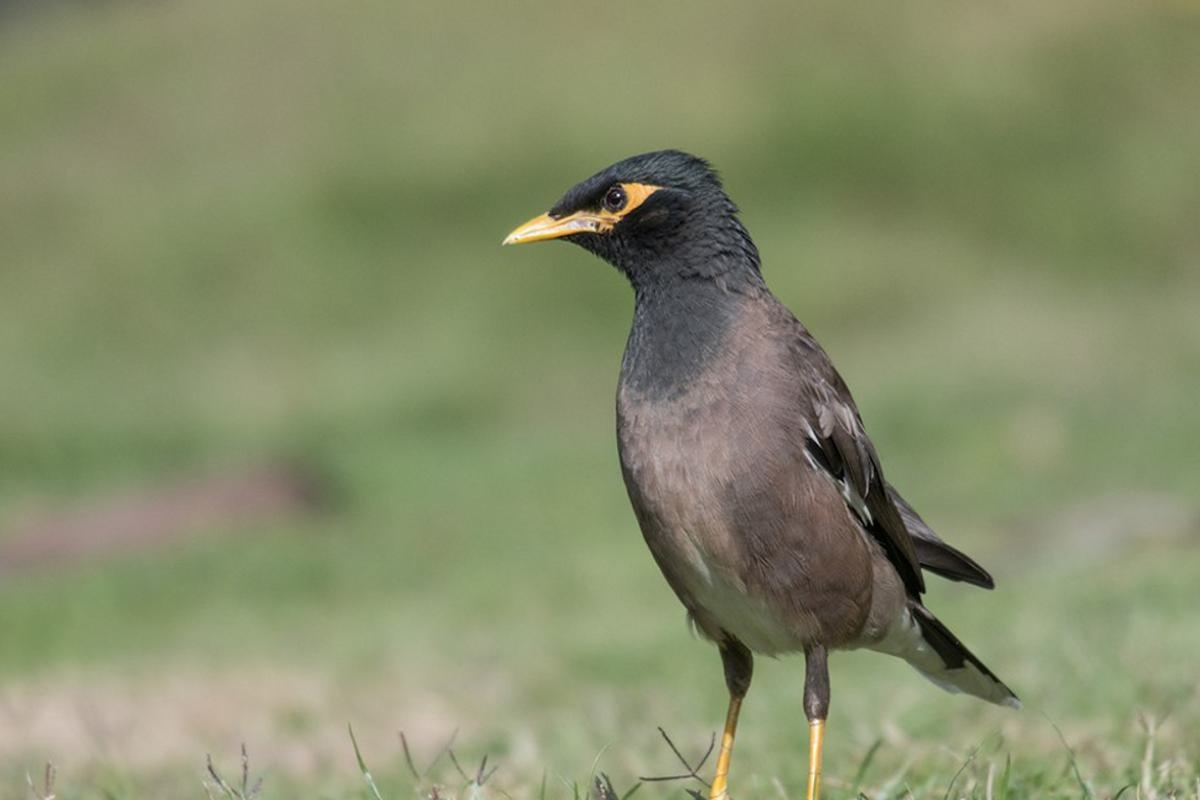myna: (484, 98, 983, 778)
